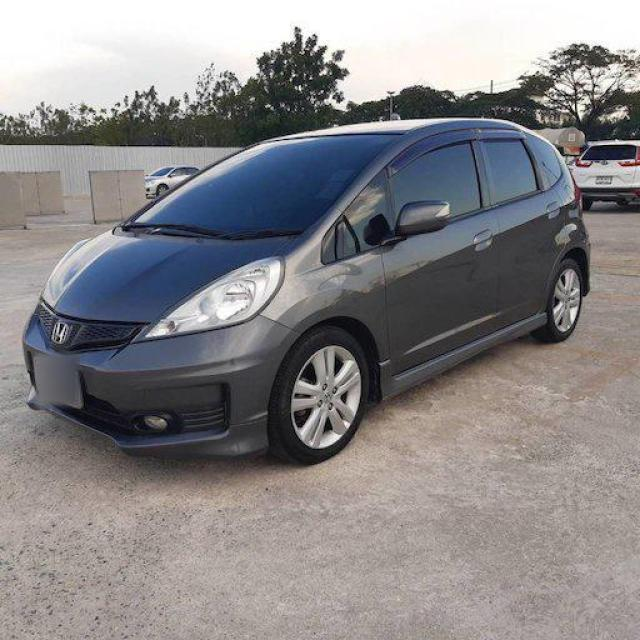back_left_door: (474, 127, 567, 332)
front_bumper: (22, 300, 302, 461)
front_glass: (112, 132, 404, 244)
front_left_door: (382, 128, 500, 376)
front_left_light: (128, 253, 285, 342)
hood: (42, 228, 298, 321)
left_mirror: (387, 200, 454, 236)
wheel: (280, 260, 584, 466)
